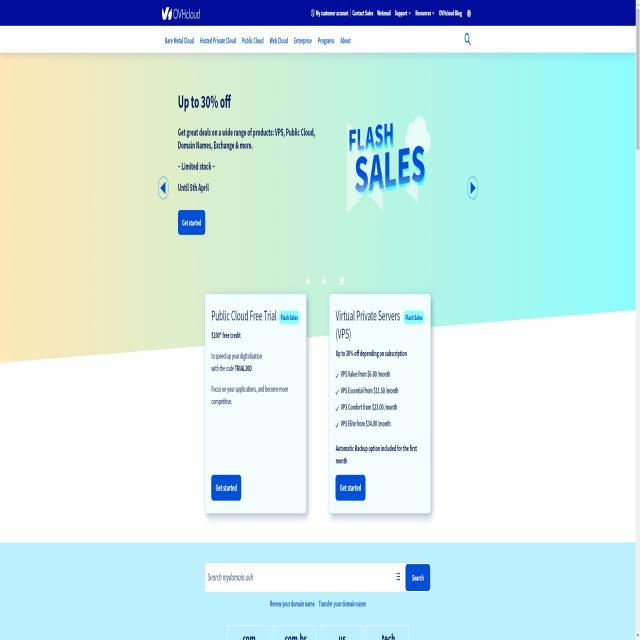menu-bar: (308, 5, 475, 22)
search: (204, 561, 432, 597)
tab-bar: (161, 28, 353, 50)
